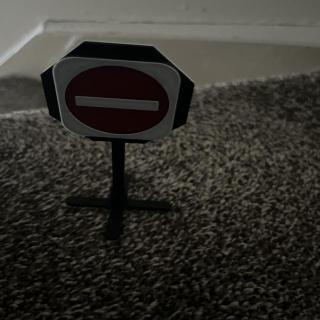sign_noentry: (47, 53, 188, 145)
